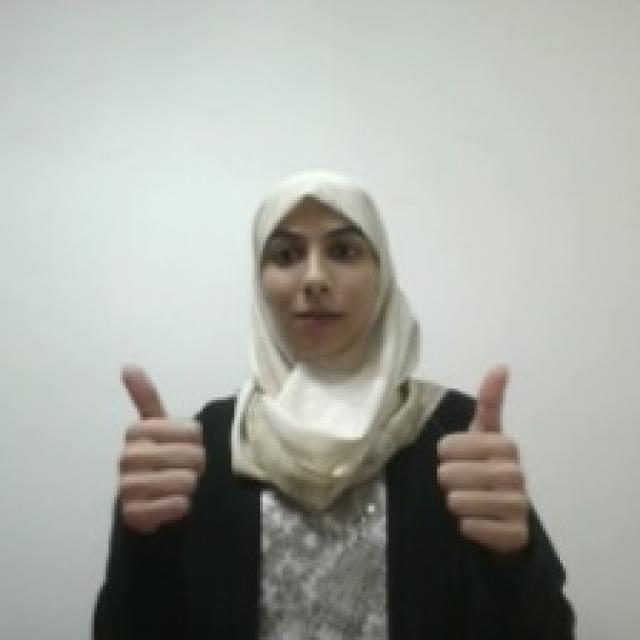fine: (430, 355, 535, 556), (108, 356, 209, 536)
